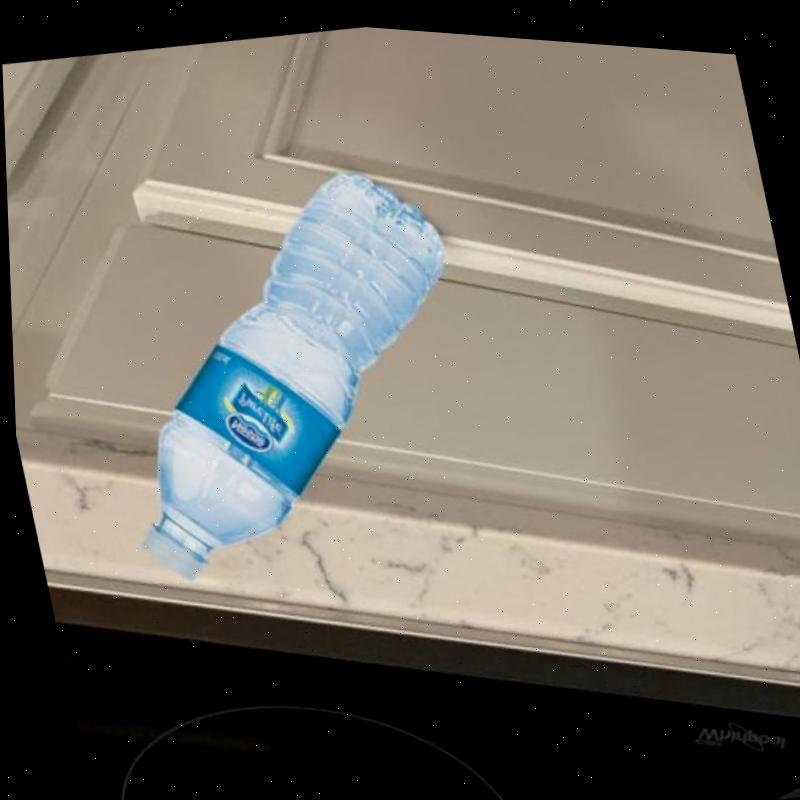botella: (70, 134, 506, 608)
